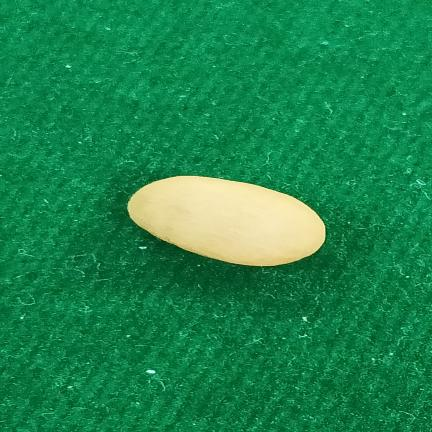parchment: (128, 176, 325, 266)
